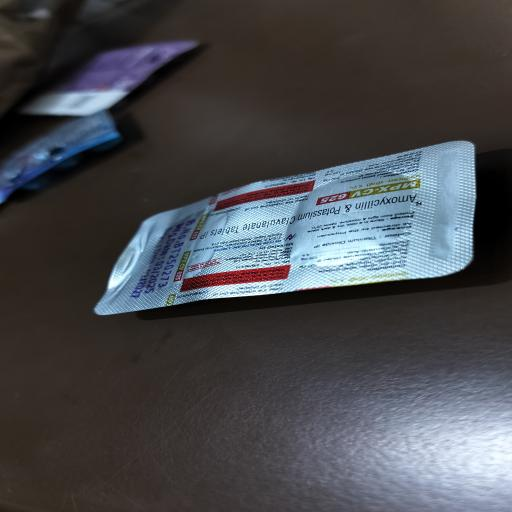amoxycillin: (191, 191, 434, 243)
medicine: (103, 150, 476, 314)
